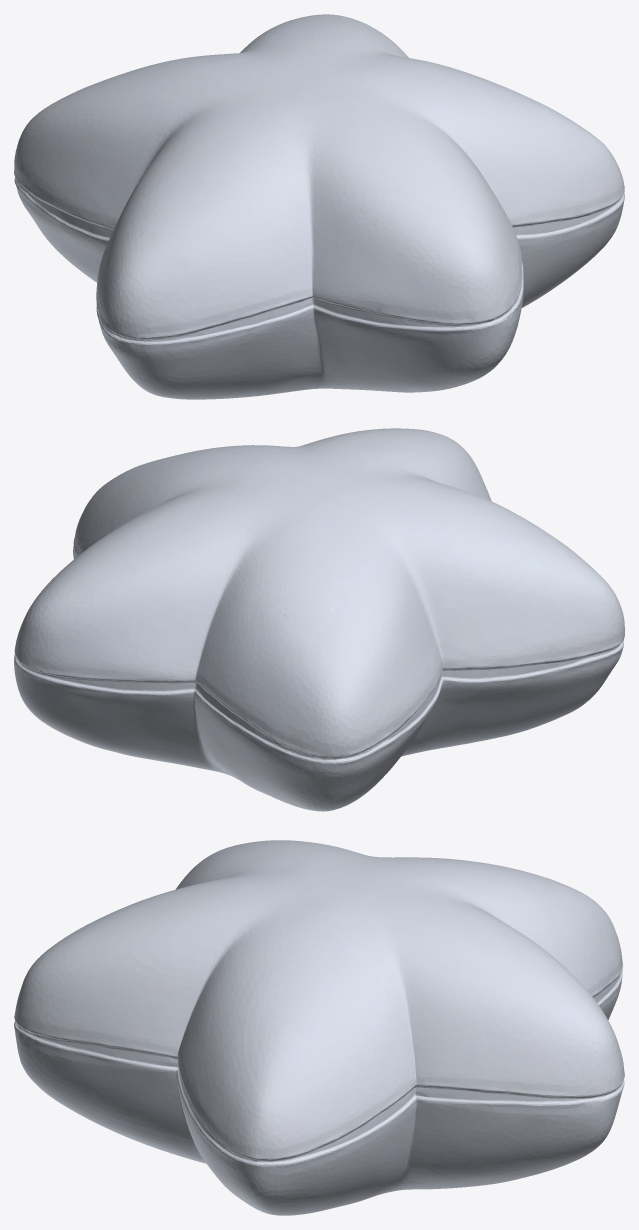
File: star_4.glb
The picture shows the model from 3 angles, top to bottom: view 1: azimuth 30°, elevation 25°; view 2: azimuth 150°, elevation 25°; view 3: azimuth 270°, elevation 25°; orthographic projection. The views are drawn at different scales.
Visible parts, largest first — view 1: tripo_node_f05d1a08-8329-484a-a38e-3f2297cab7c9; view 2: tripo_node_f05d1a08-8329-484a-a38e-3f2297cab7c9; view 3: tripo_node_f05d1a08-8329-484a-a38e-3f2297cab7c9.
Boxes of the visible parts, x1,y1,x2,y2 form: tripo_node_f05d1a08-8329-484a-a38e-3f2297cab7c9: (14, 14, 624, 399); tripo_node_f05d1a08-8329-484a-a38e-3f2297cab7c9: (14, 428, 624, 811); tripo_node_f05d1a08-8329-484a-a38e-3f2297cab7c9: (14, 840, 624, 1215).
Size of the model in its own units: 0.9607 by 0.4577 by 0.9513.
Materials: 1 (1 with a texture image).
